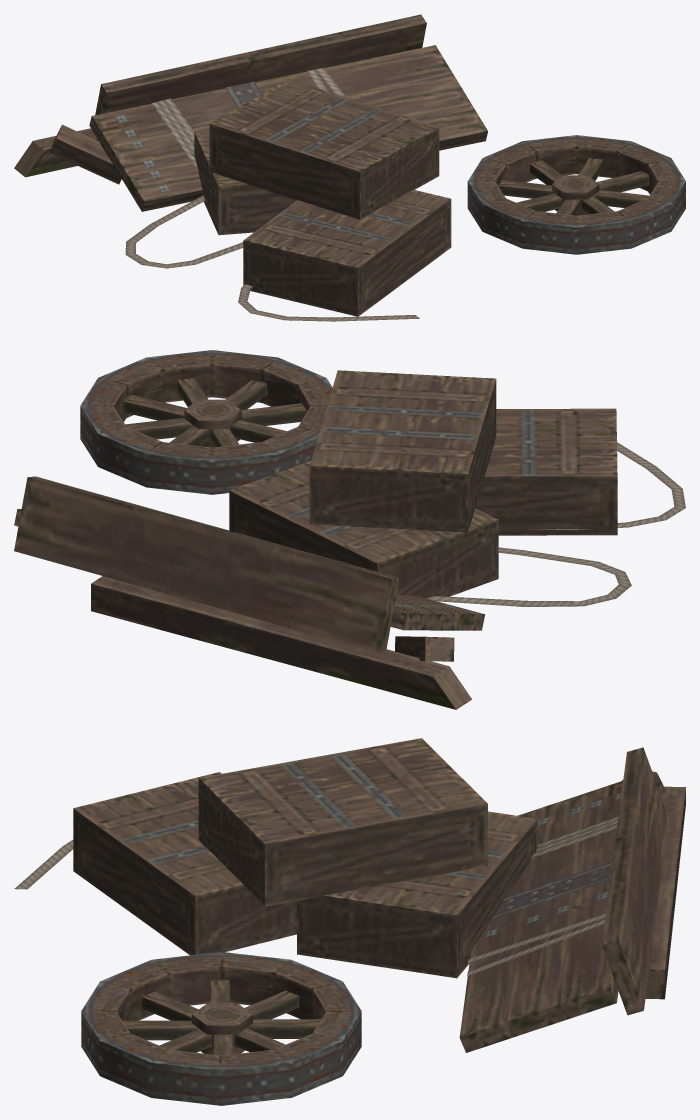
File: i_xz_posun02_04.FBX
The picture shows the model from 3 angles, top to bottom: view 1: azimuth 30°, elevation 25°; view 2: azimuth 150°, elevation 25°; view 3: azimuth 270°, elevation 25°; orthographic projection. The views are drawn at different scales.
Visible parts, largest first — view 1: i_xz_posun02_04; view 2: i_xz_posun02_04; view 3: i_xz_posun02_04.
Boxes of the visible parts, <box> form: i_xz_posun02_04: <box>14,14,685,321</box>; i_xz_posun02_04: <box>14,350,685,709</box>; i_xz_posun02_04: <box>14,738,685,1105</box>.
Size of the model in its own units: 3.2 by 0.6386 by 2.97.
